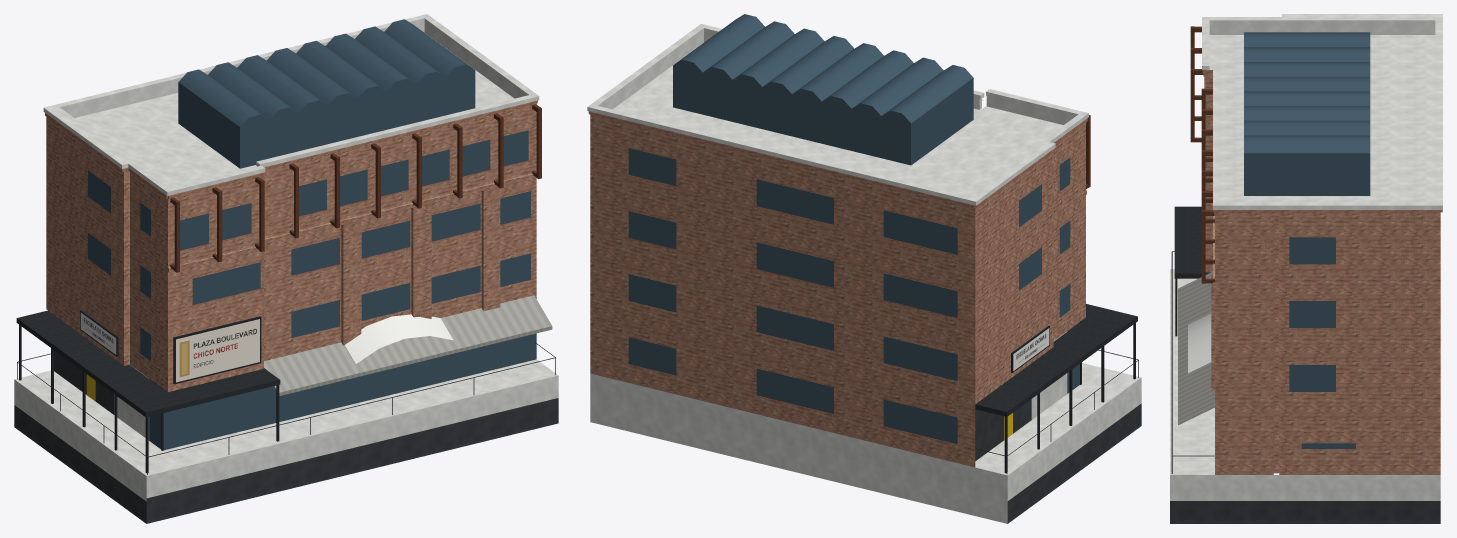
Rendered from plaza_boulevard_lod2.glb.
The picture shows the model from 3 angles, left to right: view 1: azimuth 30°, elevation 25°; view 2: azimuth 150°, elevation 25°; view 3: azimuth 270°, elevation 25°; orthographic projection. The views are drawn at different scales.
Parts seen in each view (by area): view 1: MAT_Brick_Terracotta, MAT_Paleta, MAT_Concrete_White, MAT_Concrete_Dark, MAT_Awning_Fabric, MAT_Canopy, MAT_Frame_Corten, MAT_Sign_Front, MAT_Metal_Graphite, MAT_Arc_White, MAT_Sign_Side; view 2: MAT_Brick_Terracotta, MAT_Paleta, MAT_Concrete_White, MAT_Canopy, MAT_Concrete_Dark, MAT_Metal_Graphite, MAT_Sign_Side; view 3: MAT_Brick_Terracotta, MAT_Concrete_White, MAT_Paleta, MAT_Concrete_Dark, MAT_Awning_Fabric, MAT_Frame_Corten, MAT_Canopy, MAT_Arc_White, MAT_Metal_Graphite.
Part boxes in pixels (x1,y1,x2,y2): MAT_Brick_Terracotta: (45,100,537,391); MAT_Paleta: (86,19,536,450); MAT_Concrete_White: (14,14,558,501); MAT_Concrete_Dark: (14,350,558,523); MAT_Awning_Fabric: (264,295,552,395); MAT_Canopy: (16,310,280,417); MAT_Frame_Corten: (170,104,541,272); MAT_Sign_Front: (176,319,259,382); MAT_Metal_Graphite: (17,310,555,474); MAT_Arc_White: (345,314,453,363); MAT_Sign_Side: (80,312,116,354); MAT_Brick_Terracotta: (588,100,1087,467); MAT_Paleta: (628,14,1079,443); MAT_Concrete_White: (587,24,1141,523); MAT_Canopy: (975,304,1137,416); MAT_Concrete_Dark: (975,399,1141,523); MAT_Metal_Graphite: (975,321,1138,473); MAT_Sign_Side: (1013,328,1049,370); MAT_Brick_Terracotta: (1202,70,1442,474); MAT_Concrete_White: (1170,14,1442,500); MAT_Paleta: (1244,32,1370,448); MAT_Concrete_Dark: (1170,501,1440,523); MAT_Awning_Fabric: (1178,272,1214,425); MAT_Frame_Corten: (1190,26,1214,283); MAT_Canopy: (1174,206,1210,278); MAT_Arc_White: (1188,313,1211,373); MAT_Metal_Graphite: (1171,251,1214,473).
Bounding box in the file's own units: 27.12 × 21.68 × 15.12.
Materials: 11 (10 with a texture image).
